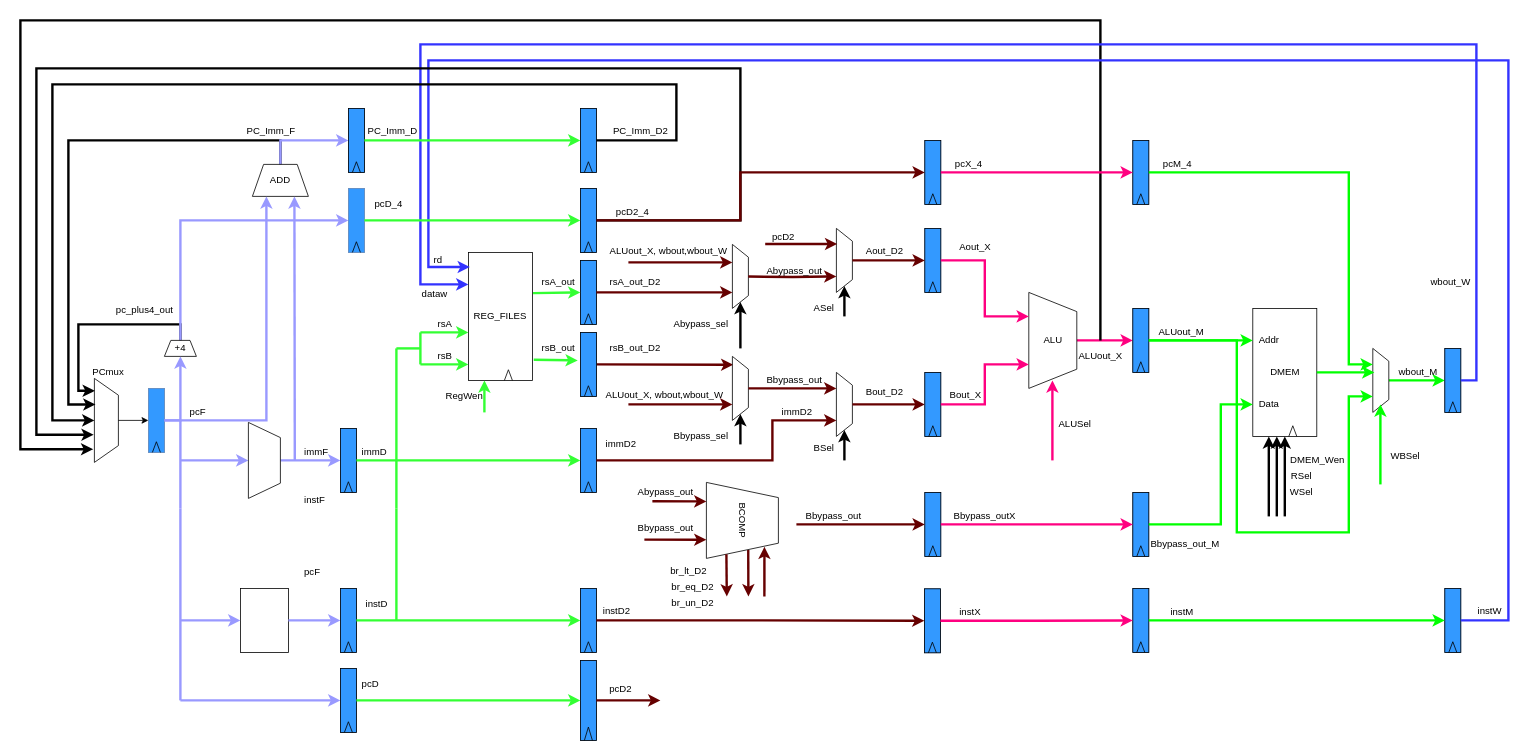
This 1530x755 diagram has some shape labels left out. The box of each missing label's shape, as (x1, y1, x2, y2) in pixels:
IMEM: (240, 588, 288, 652)
IMM_GEN: (248, 422, 280, 498)
inst: (94, 378, 118, 462)
